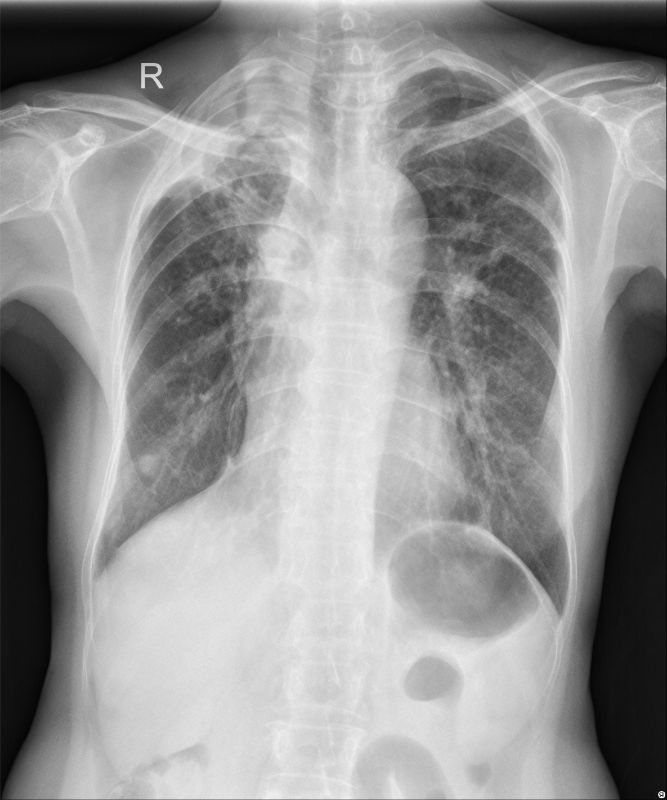Tuberculosis (TB): (181, 118, 280, 232)
